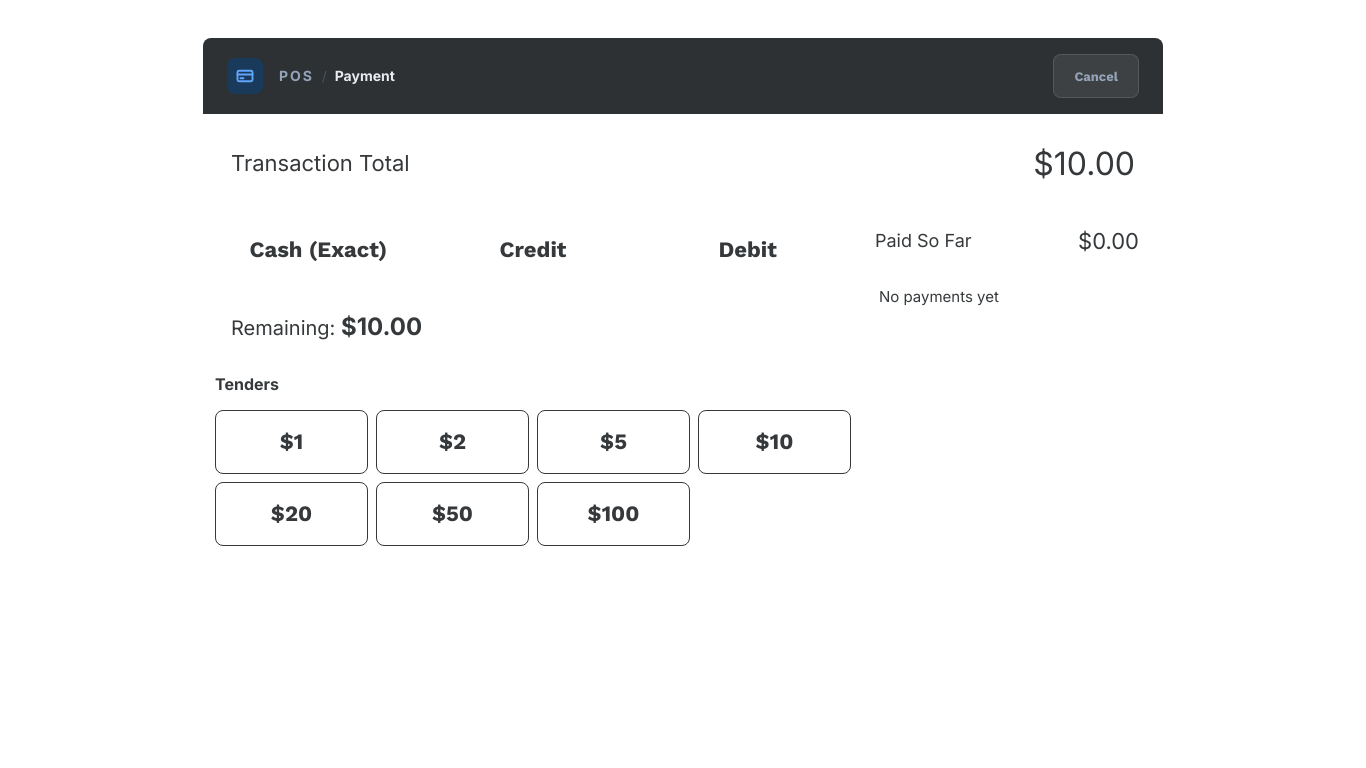
Test: PaymentModal › with Finix card API (finixChargeCard) › shows processing spinner when Debit is clicked
This screenshot has width=1366, height=768.
Click the button "Debit": (748, 250) [644, 214, 851, 286]
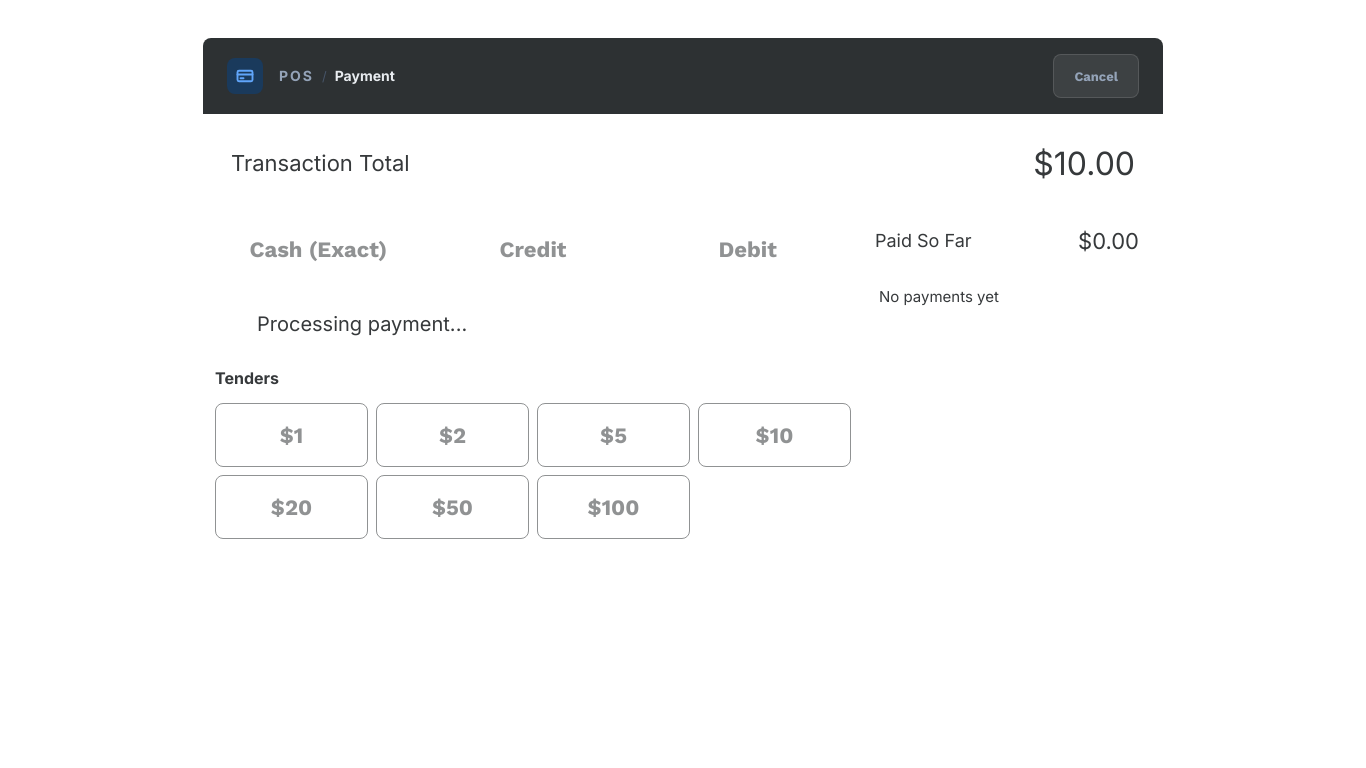
Check: the element with test id "payment-processing" is shown, box [231, 308, 467, 340]
